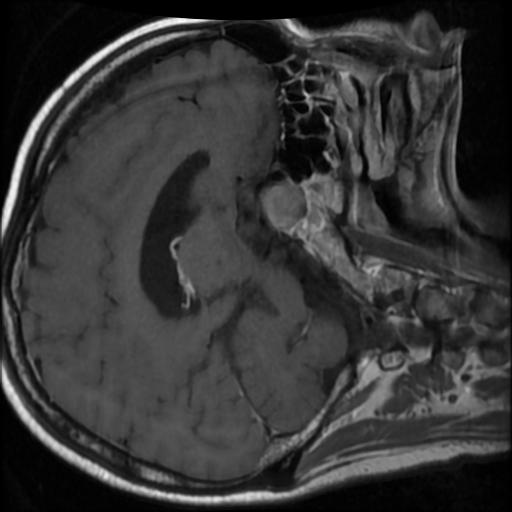pituitary tumour: (259, 181, 301, 224)
